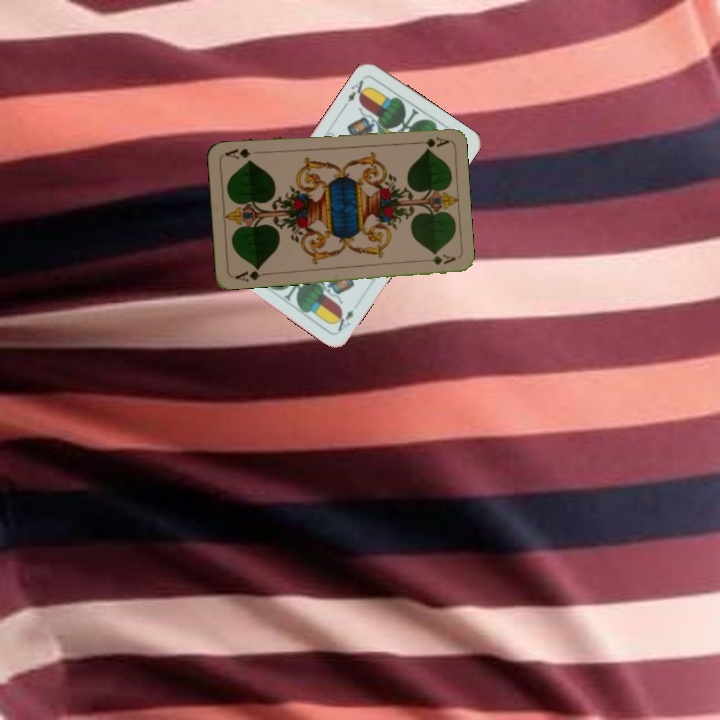EA: (340, 73, 370, 109), (331, 306, 356, 334)
GA: (231, 263, 270, 284), (410, 133, 450, 151)
